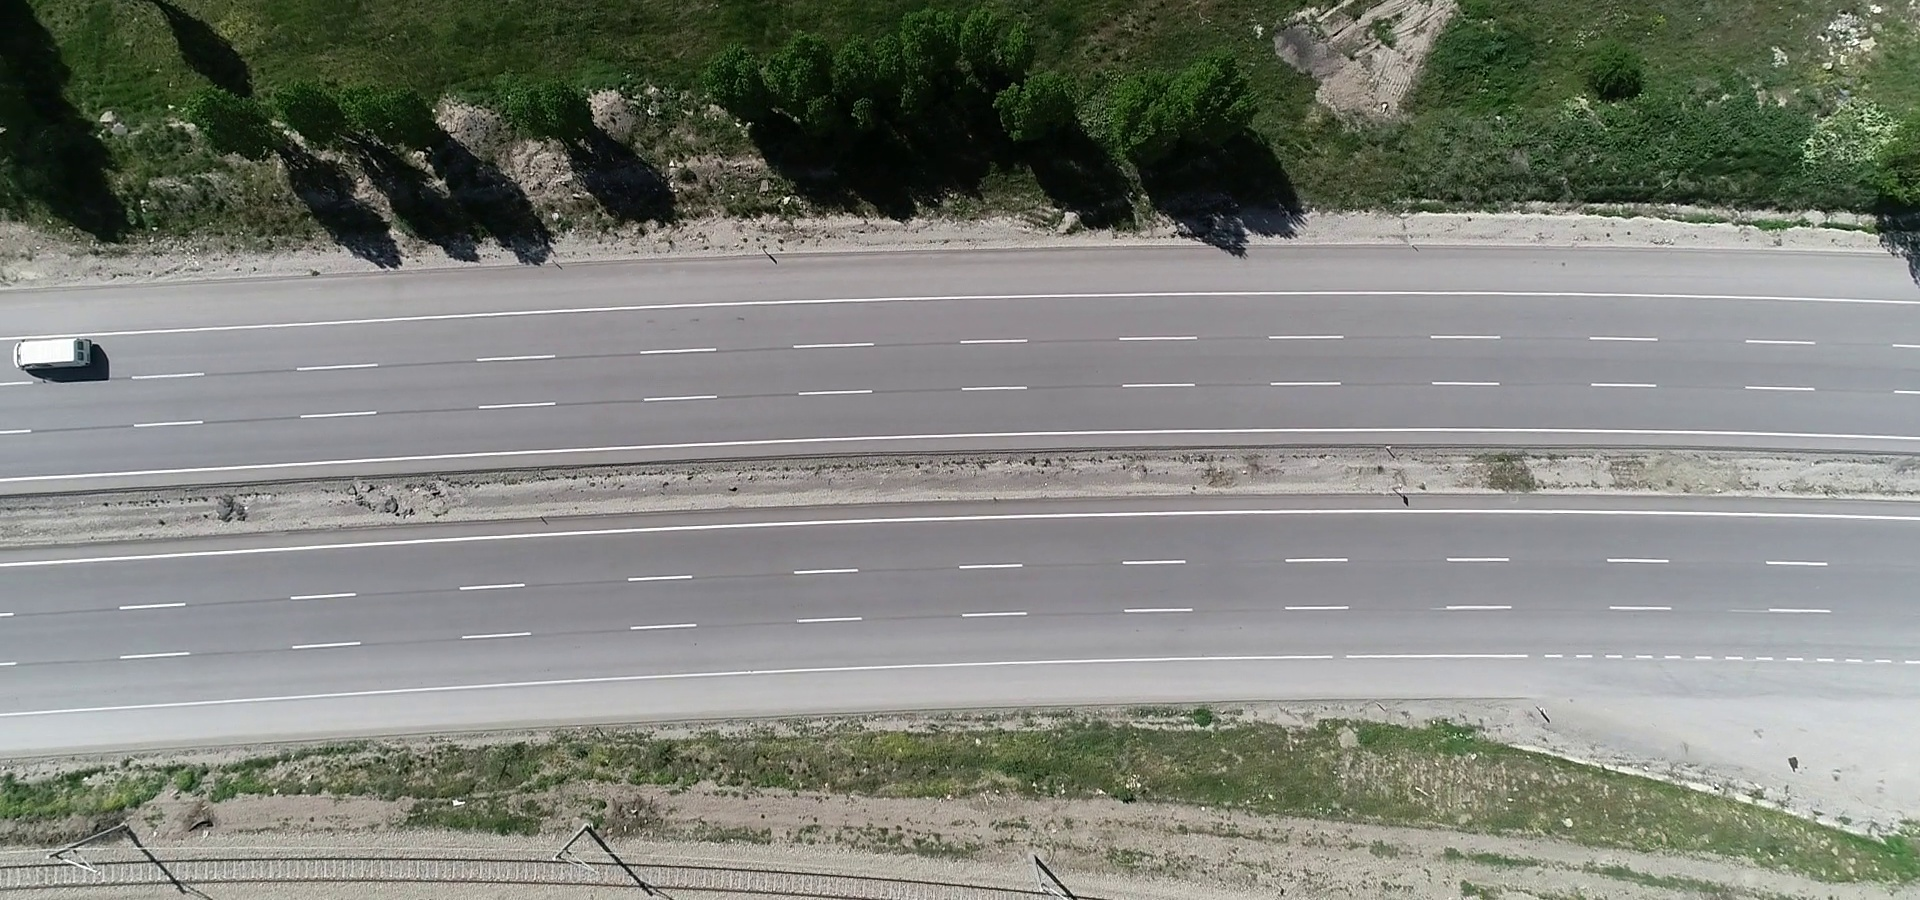araba: (7, 333, 100, 373)
